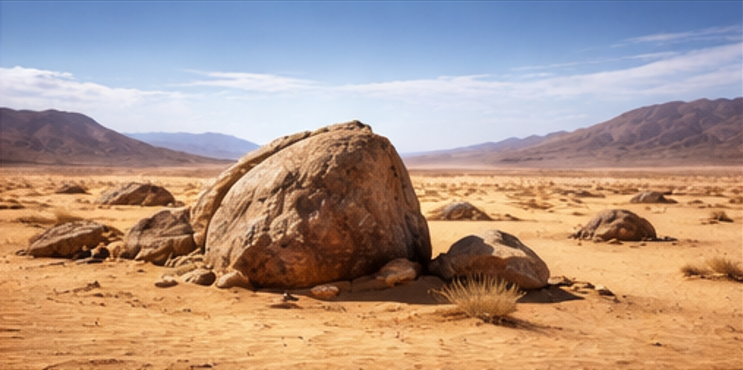rocks: (193, 122, 429, 287), (427, 229, 549, 288), (120, 208, 196, 263), (25, 219, 122, 256), (571, 208, 656, 240), (96, 181, 174, 203), (427, 200, 490, 219), (629, 191, 676, 203)
